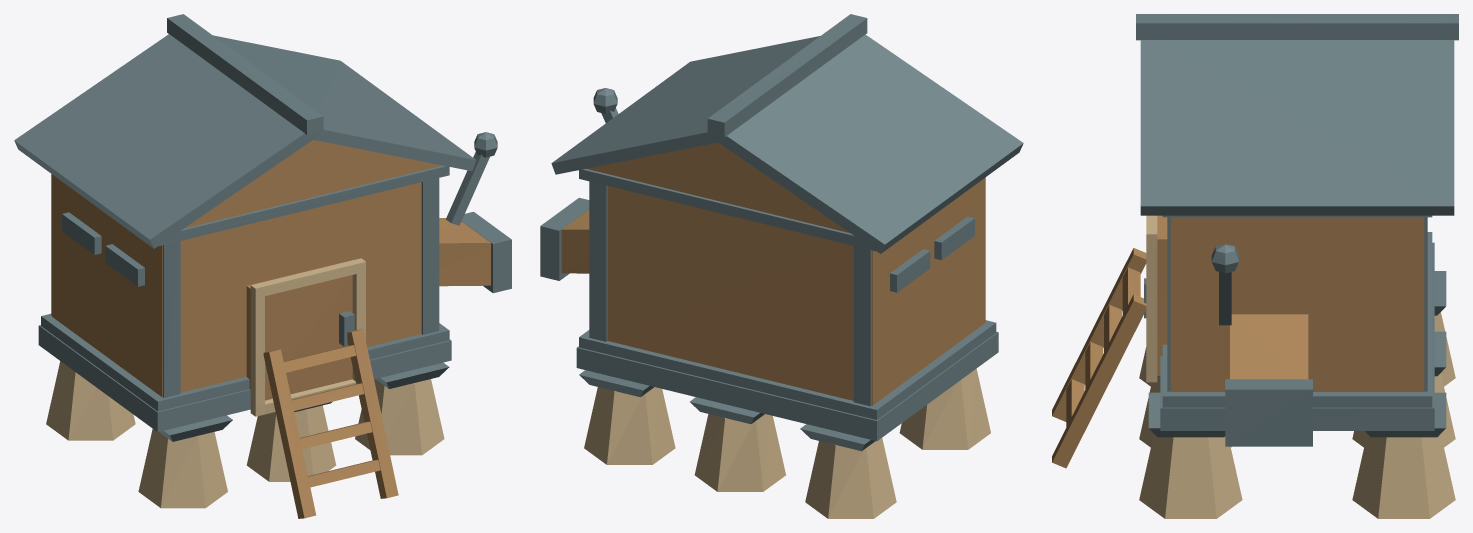
File: granary.source.glb
The picture shows the model from 3 angles, left to right: view 1: azimuth 30°, elevation 25°; view 2: azimuth 150°, elevation 25°; view 3: azimuth 270°, elevation 25°; orthographic projection. The views are drawn at different scales.
Parts seen in each view (by area): view 1: granary-granary-shell-mesh, granary-left-roof-panel-mesh, granary-right-roof-panel-mesh, granary-hatch-leaf-mesh, granary-front-gable-mesh, granary-granary-floor-mesh, granary-front-left-stone-pier-mesh, granary-roof-ridge-mesh, granary-body-band-0.84-mesh, granary-rear-left-stone-pier-mesh, granary-front-right-stone-pier-mesh, granary-front-center-stone-pier-mesh (+20 smaller); view 2: granary-granary-shell-mesh, granary-left-roof-panel-mesh, granary-right-roof-panel-mesh, granary-granary-floor-mesh, granary-rear-gable-mesh, granary-body-band-0.84-mesh, granary-rear-left-stone-pier-mesh, granary-rear-center-stone-pier-mesh, granary-rear-right-stone-pier-mesh, granary-roof-ridge-mesh, granary-front-left-stone-pier-mesh, granary-body-band-2.18-mesh (+9 smaller); view 3: granary-right-roof-panel-mesh, granary-granary-shell-mesh, granary-roof-ridge-mesh, granary-rear-right-stone-pier-mesh, granary-front-right-stone-pier-mesh, granary-chute-mouth-mesh, granary-chute-body-mesh, granary-granary-floor-mesh, granary-body-band-0.84-mesh, granary-ladder-right-rail-mesh, granary-ladder-left-rail-mesh, granary-hatch-right-trim-mesh (+17 smaller).
Boxes of the visible parts, x1,y1,x2,y2 form: granary-granary-shell-mesh: [52, 174, 421, 397]; granary-left-roof-panel-mesh: [14, 34, 318, 248]; granary-right-roof-panel-mesh: [213, 35, 476, 171]; granary-hatch-leaf-mesh: [246, 259, 354, 400]; granary-front-gable-mesh: [184, 140, 442, 228]; granary-granary-floor-mesh: [38, 325, 451, 431]; granary-front-left-stone-pier-mesh: [138, 429, 227, 508]; granary-roof-ridge-mesh: [167, 14, 323, 134]; granary-body-band-0.84-mesh: [41, 313, 449, 411]; granary-rear-left-stone-pier-mesh: [46, 361, 135, 440]; granary-front-right-stone-pier-mesh: [355, 379, 444, 455]; granary-front-center-stone-pier-mesh: [246, 405, 336, 481]; granary-granary-shell-mesh: [607, 178, 984, 405]; granary-left-roof-panel-mesh: [713, 34, 1023, 253]; granary-right-roof-panel-mesh: [551, 36, 819, 174]; granary-granary-floor-mesh: [576, 332, 998, 441]; granary-rear-gable-mesh: [586, 142, 849, 232]; granary-body-band-0.84-mesh: [579, 320, 996, 419]; granary-rear-left-stone-pier-mesh: [805, 438, 896, 518]; granary-rear-center-stone-pier-mesh: [694, 414, 785, 491]; granary-rear-right-stone-pier-mesh: [584, 387, 675, 464]; granary-roof-ridge-mesh: [707, 14, 867, 137]; granary-front-left-stone-pier-mesh: [899, 368, 990, 449]; granary-body-band-2.18-mesh: [579, 169, 876, 251]; granary-right-roof-panel-mesh: [1140, 40, 1454, 215]; granary-granary-shell-mesh: [1170, 217, 1424, 391]; granary-roof-ridge-mesh: [1136, 14, 1458, 40]; granary-rear-right-stone-pier-mesh: [1352, 434, 1455, 518]; granary-front-right-stone-pier-mesh: [1139, 434, 1242, 518]; granary-chute-mouth-mesh: [1225, 379, 1312, 446]; granary-chute-body-mesh: [1230, 314, 1308, 379]; granary-granary-floor-mesh: [1160, 242, 1434, 430]; granary-body-band-0.84-mesh: [1162, 232, 1432, 407]; granary-ladder-right-rail-mesh: [1052, 294, 1146, 468]; granary-ladder-left-rail-mesh: [1052, 248, 1146, 421]; granary-hatch-right-trim-mesh: [1146, 234, 1157, 382].
Bounding box in the file's own units: 3.39 × 2.98 × 2.6.
